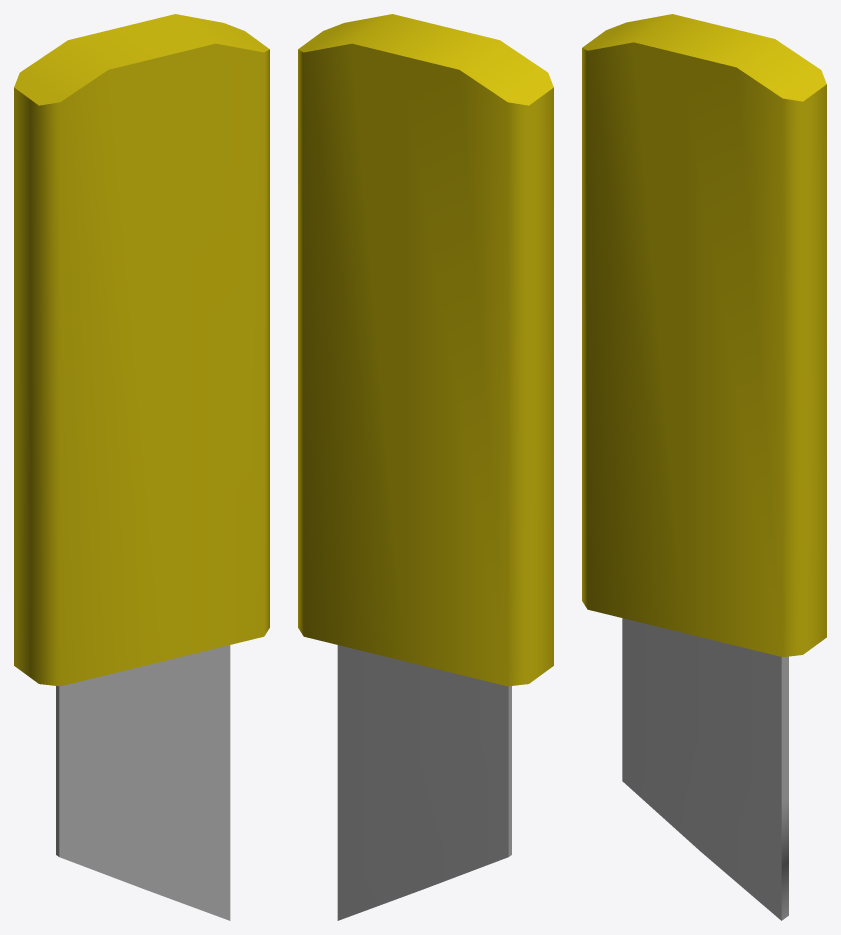
Rendered from Knife.fbx.
3 views of the same model, side by side, from view 1: azimuth 30°, elevation 25°; view 2: azimuth 150°, elevation 25°; view 3: azimuth 330°, elevation 25° (orthographic). The views are drawn at different scales.
Visible parts, largest first — view 1: Cube.002; view 2: Cube.002; view 3: Cube.002.
Boxes of the visible parts, bbox=[...] form: Cube.002: bbox=[14, 14, 269, 920]; Cube.002: bbox=[298, 14, 553, 920]; Cube.002: bbox=[582, 14, 826, 920].
Bounding box in the file's own units: 6.84 × 25.39 × 2.08.
1 material, 1 textured.
